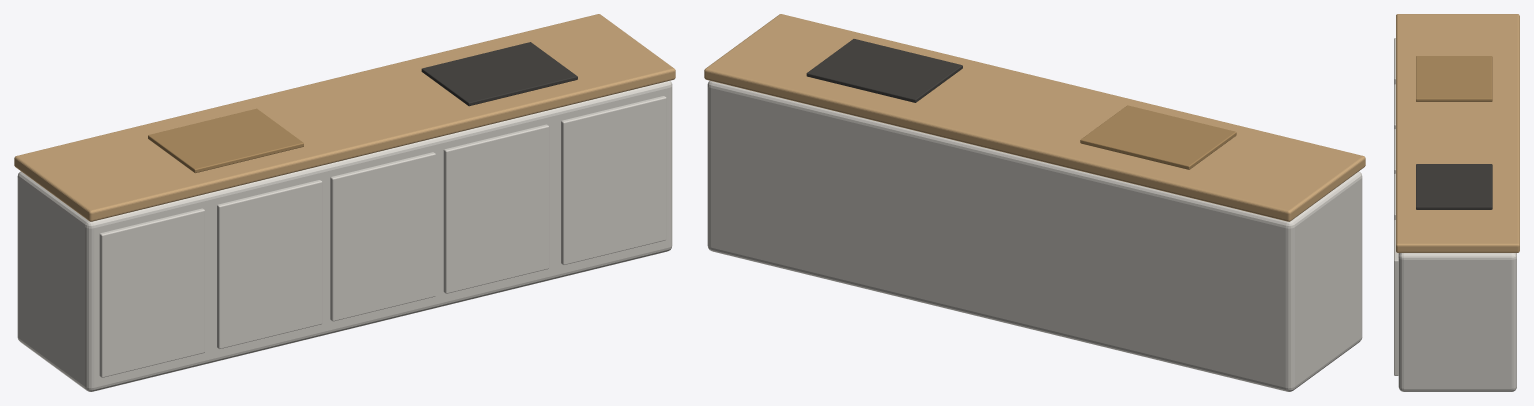
File: kitchen-counter.glb
3 views of the same model, side by side, from view 1: azimuth 30°, elevation 25°; view 2: azimuth 150°, elevation 25°; view 3: azimuth 270°, elevation 25° (orthographic). The views are drawn at different scales.
Parts seen in each view (by area): view 1: CANONICAL worktop, CANONICAL cabinets, CANONICAL front 4, CANONICAL front 3, CANONICAL front 1, CANONICAL front 2, CANONICAL front 5, ACCENT sink, ACCENT hob; view 2: CANONICAL cabinets, CANONICAL worktop, ACCENT sink, ACCENT hob; view 3: CANONICAL worktop, CANONICAL cabinets, ACCENT hob, ACCENT sink, CANONICAL front 5.
Part boxes in pixels (<box>): CANONICAL worktop: <box>14,14,675,221</box>; CANONICAL cabinets: <box>17,80,672,391</box>; CANONICAL front 4: <box>443,124,549,293</box>; CANONICAL front 3: <box>330,152,435,321</box>; CANONICAL front 1: <box>99,208,204,377</box>; CANONICAL front 2: <box>217,180,322,349</box>; CANONICAL front 5: <box>561,96,666,264</box>; ACCENT sink: <box>148,108,303,173</box>; ACCENT hob: <box>421,42,577,106</box>; CANONICAL cabinets: <box>707,80,1362,391</box>; CANONICAL worktop: <box>704,14,1365,221</box>; ACCENT sink: <box>1080,105,1236,169</box>; ACCENT hob: <box>806,39,962,102</box>; CANONICAL worktop: <box>1396,14,1519,252</box>; CANONICAL cabinets: <box>1398,253,1516,391</box>; ACCENT hob: <box>1416,164,1492,209</box>; ACCENT sink: <box>1416,56,1492,101</box>; CANONICAL front 5: <box>1394,220,1398,375</box>.
Size of the model in its own units: 3 by 0.925 by 0.6895.
